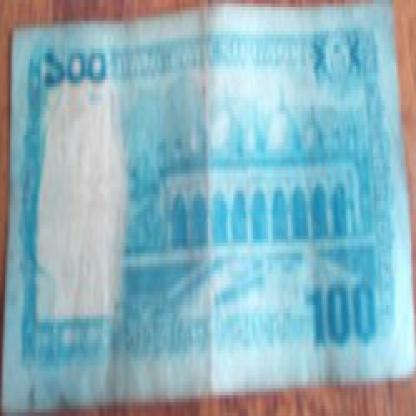one hundred taka: (304, 278, 378, 361), (42, 42, 114, 94)
